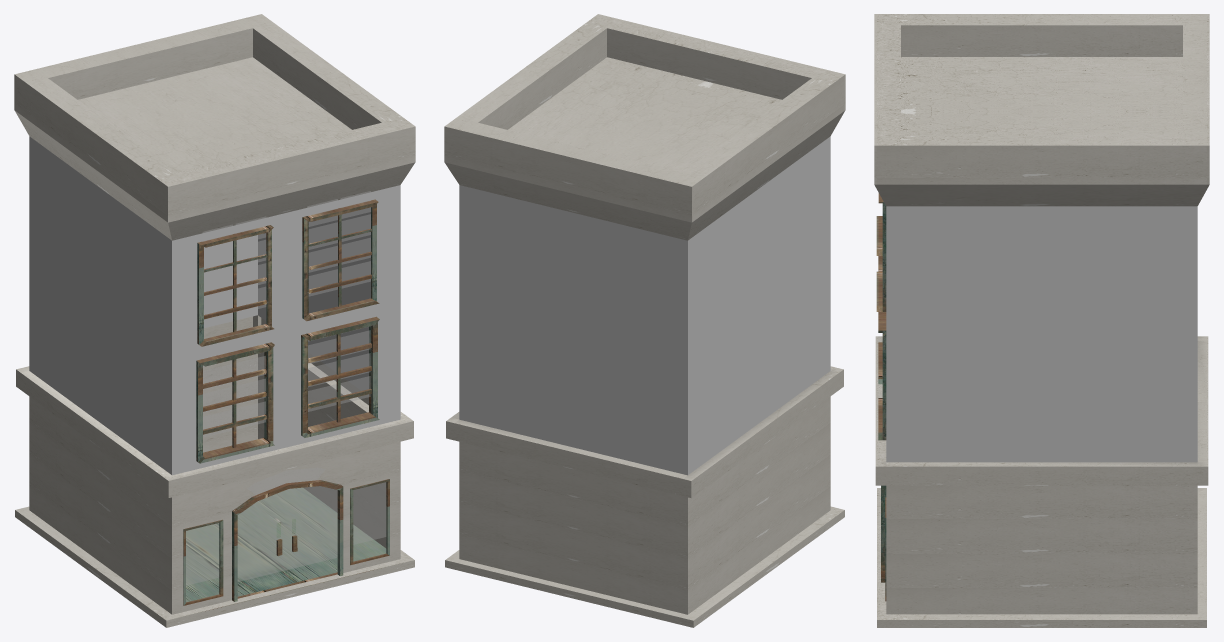
Rendered from commercial2.fbx.
3 renders of one model, left to right at view 1: azimuth 30°, elevation 25°; view 2: azimuth 150°, elevation 25°; view 3: azimuth 270°, elevation 25°, orthographic. The views are drawn at different scales.
Visible parts, largest first — view 1: Cube, Cube.001; view 2: Cube; view 3: Cube.
Part boxes in pixels (left/top/right/bottom): Cube: left=14, top=14, right=415, bottom=627; Cube.001: left=186, top=191, right=385, bottom=585; Cube: left=444, top=14, right=845, bottom=627; Cube: left=874, top=14, right=1209, bottom=627.
Bounding box in the file's own units: 758 × 1289 × 813.
